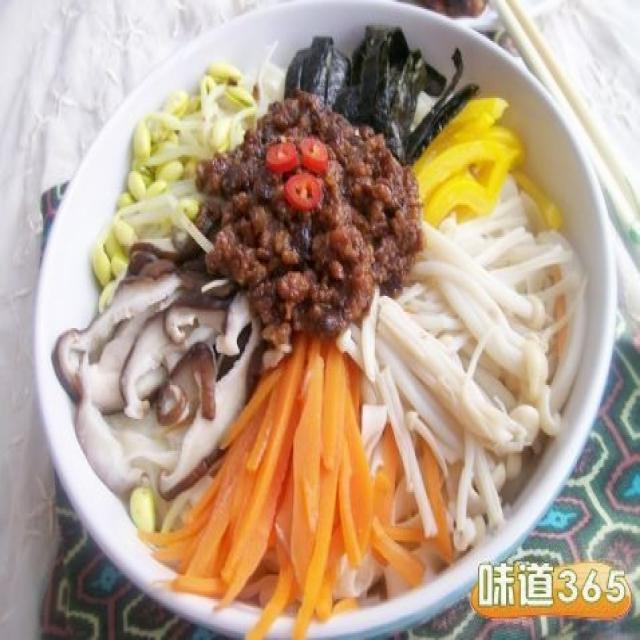面条主食: (25, 12, 604, 634)
